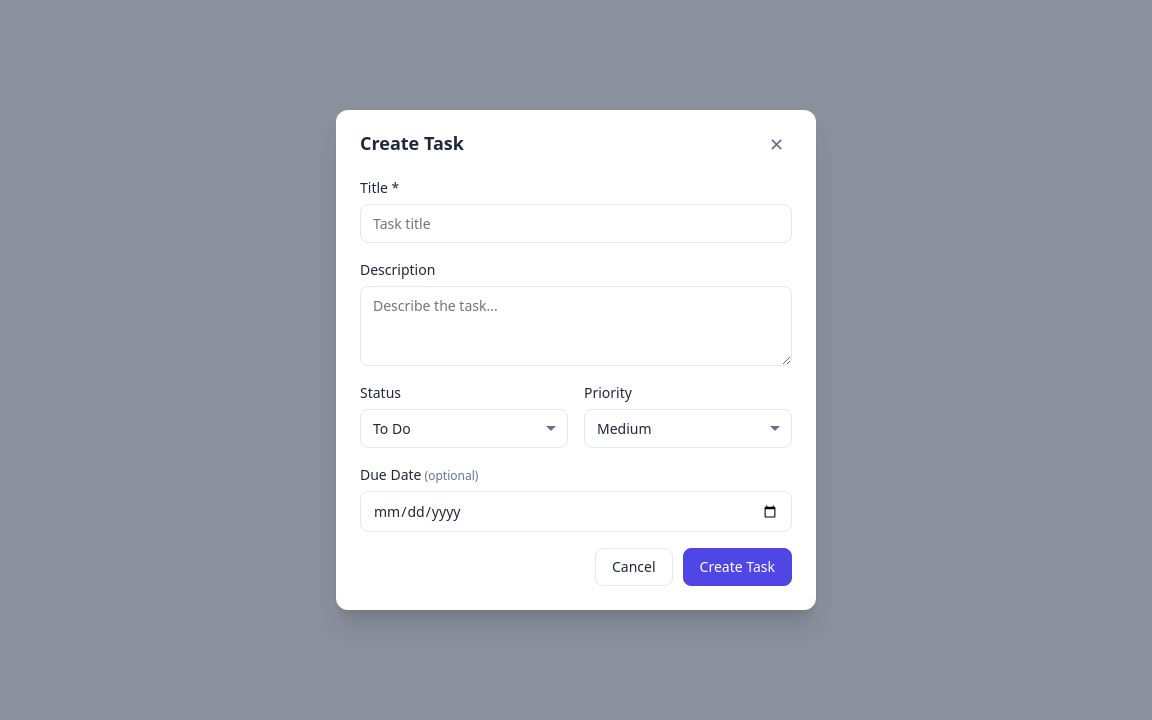
TaskModal › shows an error message when createTask rejects
Type "New task" into the field with placeholder "Task title" at [576, 224], box left=360, top=204, right=792, bottom=243
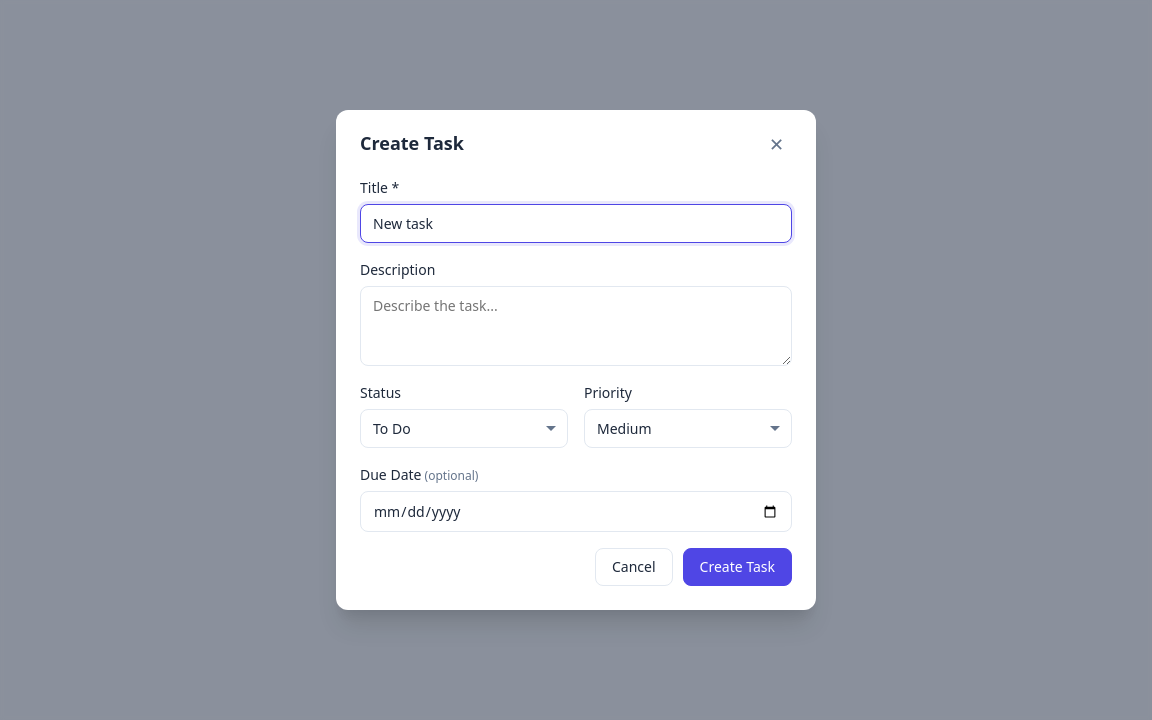
Click the button "Create Task" at [737, 567], box left=683, top=548, right=792, bottom=586
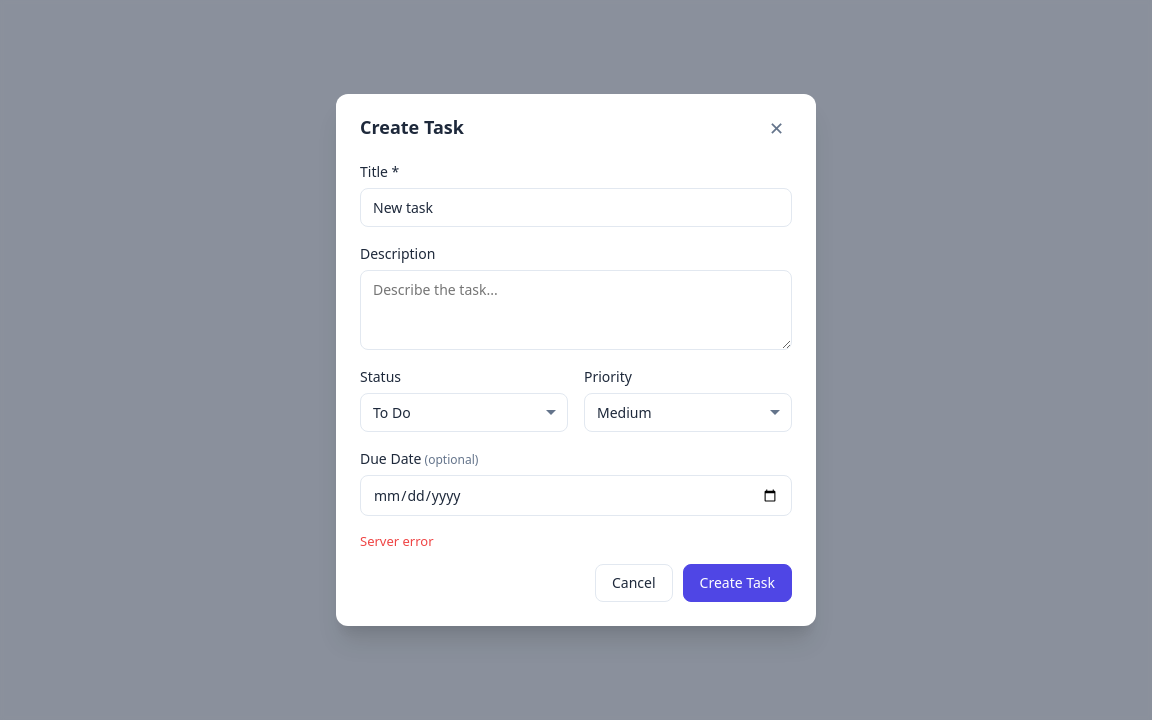
expect the text "Server error" is shown: met, box left=360, top=532, right=434, bottom=550
